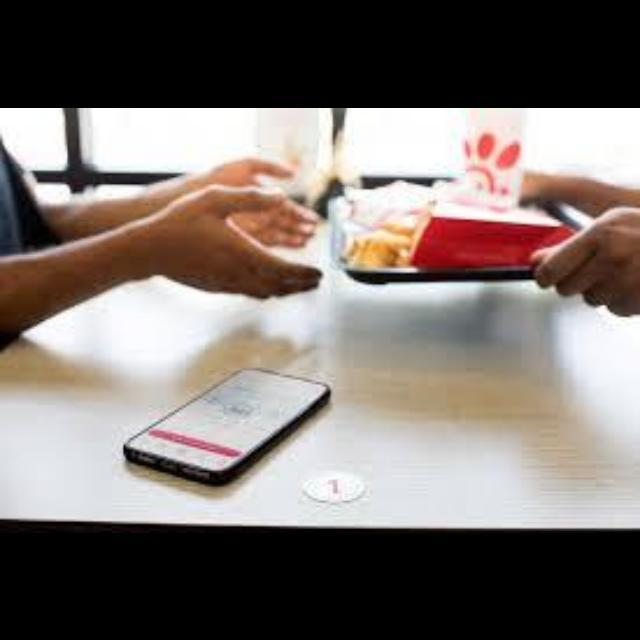Phone: (124, 366, 332, 486)
